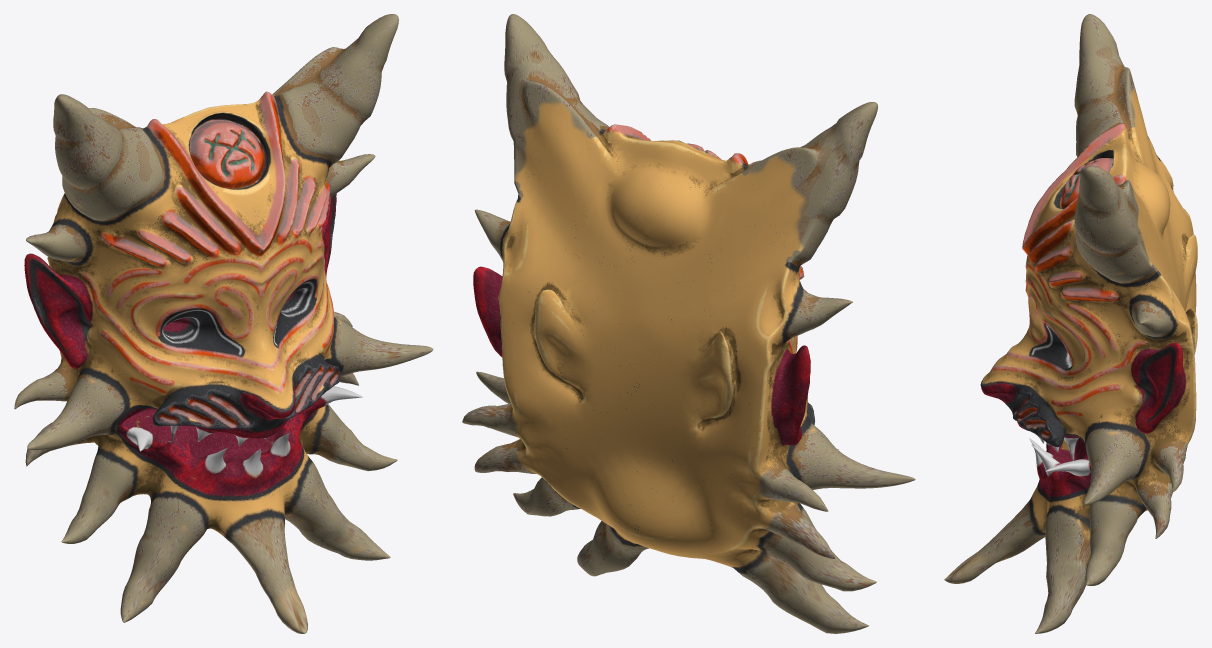
3 renders of one model, left to right at view 1: azimuth 30°, elevation 25°; view 2: azimuth 150°, elevation 25°; view 3: azimuth 270°, elevation 25°, orthographic. The views are drawn at different scales.
Parts seen in each view (by area): view 1: g; view 2: g; view 3: g.
Part boxes in pixels (x1=…): g: x1=14, y1=14, x2=433, y2=633; g: x1=462, y1=14, x2=915, y2=633; g: x1=944, y1=14, x2=1197, y2=633.
Size of the model in its own units: 1.62 by 2 by 0.9341.
1 material, 1 textured.
